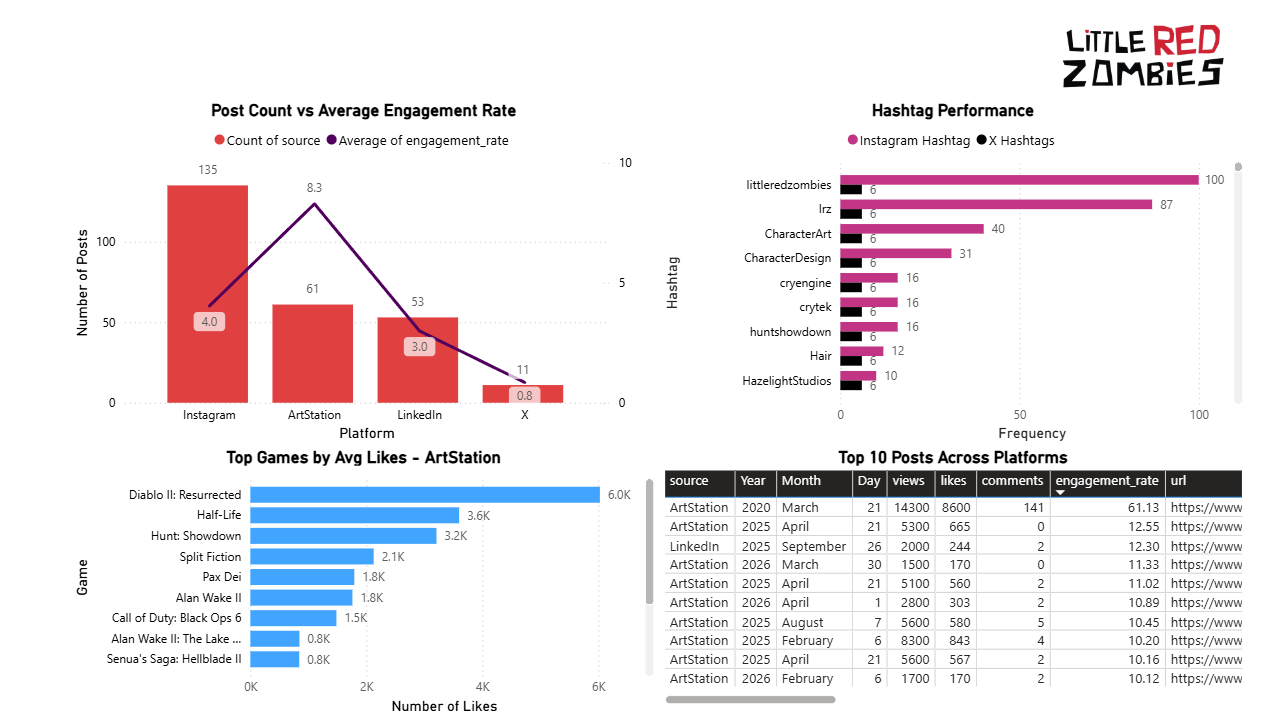

The dashboard page shown, as its layout file describes it:
{"tool":"powerbi","page":{"name":"Deep Dive","canvas":[1280,720],"ordinal":1},"visuals":[{"type":"lineStackedColumnComboChart","title":"Post Count vs Average Engagement Rate","fields":{"Category":["engagement.source"],"Y":["CountNonNull(engagement.source)"],"Y2":["Avg(engagement.engagement_rate)"]},"box":[68.8,101.2,590,346.2],"z":0},{"type":"clusteredBarChart","title":"Hashtag Performance","fields":{"Category":["instagram.hashtag","x.hashtag"],"Y":["CountNonNull(instagram.hashtag)","CountNonNull(x.hashtag)"]},"box":[658.8,101.2,588.8,346.2],"z":1000},{"type":"clusteredBarChart","title":"Top Games by Avg Likes - ArtStation","fields":{"Category":["artstation.game"],"Y":["Sum(artstation.likes)"]},"box":[68.8,447.5,590,272.5],"z":2000},{"type":"image","box":[1040,13.8,207.5,87.5],"z":3000},{"type":"tableEx","title":"Top 10 Posts Across Platforms","fields":{"Values":["engagement.source","engagement.normalized_date.Variation.Date Hierarchy.Year","engagement.normalized_date.Variation.Date Hierarchy.Month","engagement.normalized_date.Variation.Date Hierarchy.Day","engagement.views","engagement.likes","engagement.comments","engagement.engagement_rate","engagement.url"]},"box":[658.6,447.1,588.6,262.9],"z":4000}]}

Visuals, with their boxes in screenshot pixels (x1, y1, x2, y2), scaled from the page's 1280x720 canvas onto the 1278x717 screenshot:
"Post Count vs Average Engagement Rate" lineStackedColumnComboChart: (69,101,658,446)
"Hashtag Performance" clusteredBarChart: (658,101,1246,446)
"Top Games by Avg Likes - ArtStation" clusteredBarChart: (69,446,658,716)
image: (1038,14,1246,101)
"Top 10 Posts Across Platforms" tableEx: (658,445,1245,707)
